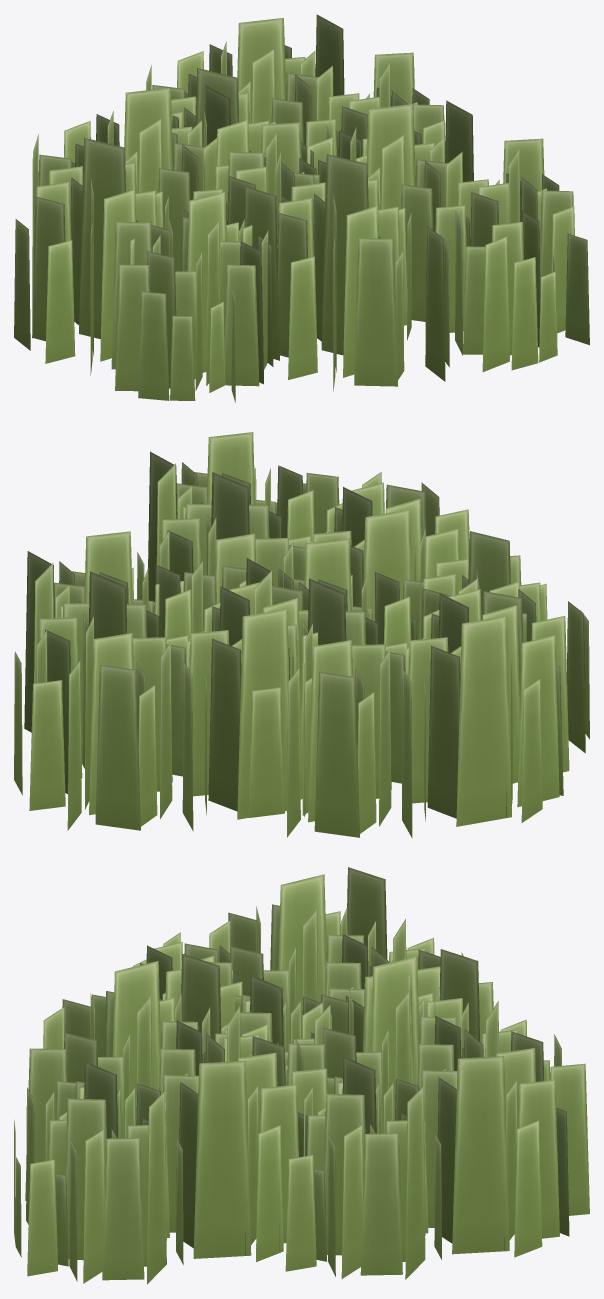
File: SM_Grass_01_C.fbx
3 views of the same model, one above another, from view 1: azimuth 30°, elevation 25°; view 2: azimuth 150°, elevation 25°; view 3: azimuth 270°, elevation 25° (orthographic). The views are drawn at different scales.
Parts seen in each view (by area): view 1: polySurface645; view 2: polySurface645; view 3: polySurface645.
Part boxes in pixels (box(x1,y1,x2,y2)): polySurface645: box(14, 14, 589, 402); polySurface645: box(14, 432, 589, 837); polySurface645: box(14, 867, 589, 1284).
Bounding box in the file's own units: 54.18 × 23.19 × 57.14.
